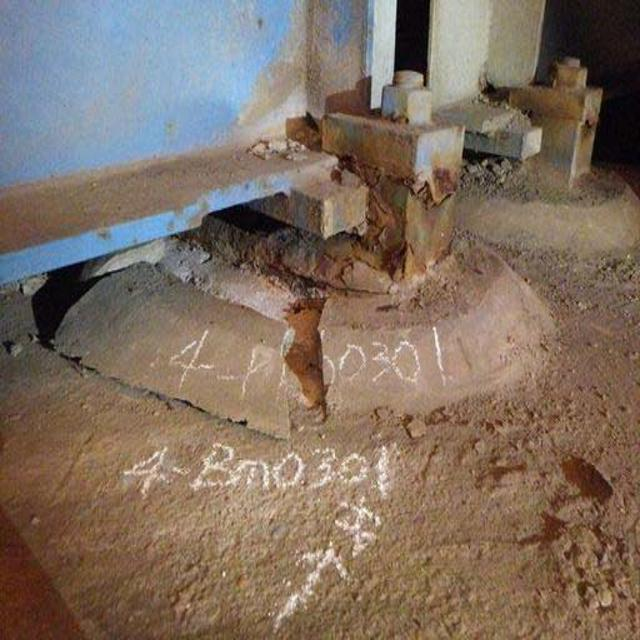corrosion: (172, 89, 474, 290)
